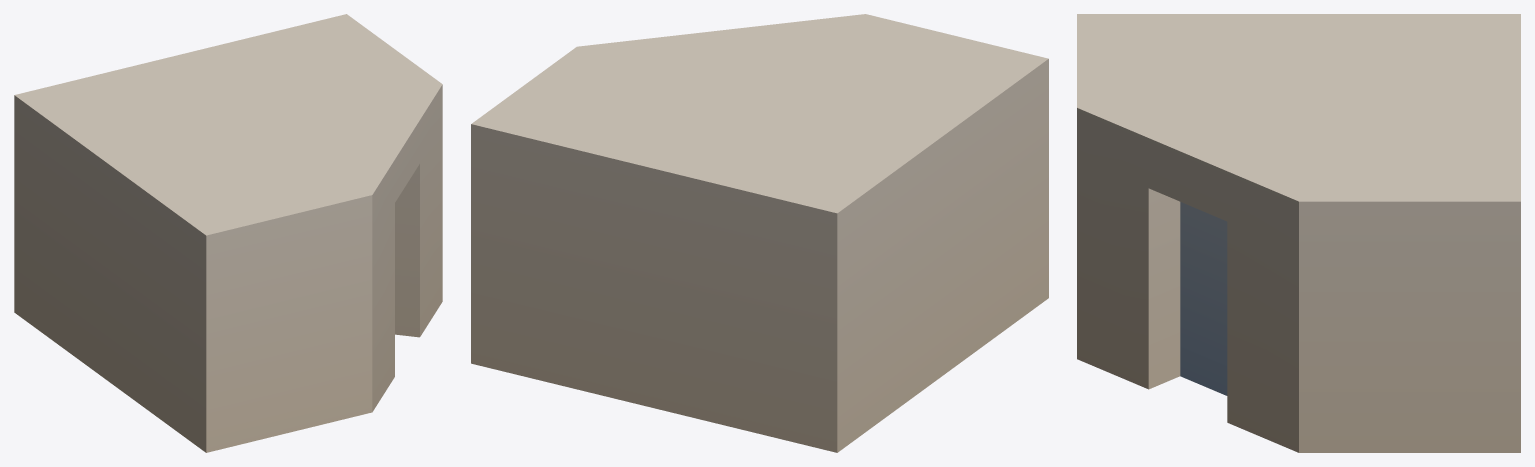
Rendered from building-corner-window-narrow.glb.
The picture shows the model from 3 angles, left to right: view 1: azimuth 30°, elevation 25°; view 2: azimuth 150°, elevation 25°; view 3: azimuth 270°, elevation 25°; orthographic projection. The views are drawn at different scales.
Parts seen in each view (by area): view 1: building-corner-window-narrow; view 2: building-corner-window-narrow; view 3: building-corner-window-narrow.
Boxes of the visible parts, x1,y1,x2,y2 form: building-corner-window-narrow: (14,14,442,452); building-corner-window-narrow: (471,14,1048,452); building-corner-window-narrow: (1077,14,1520,452).
Size of the model in its own units: 1 by 0.625 by 1.
